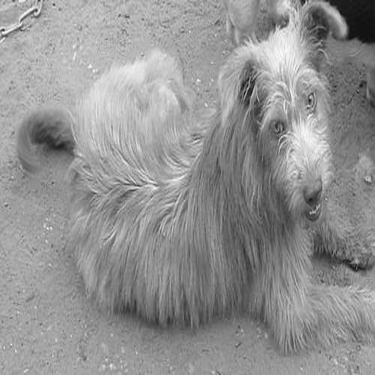dog: (5, 4, 370, 355)
